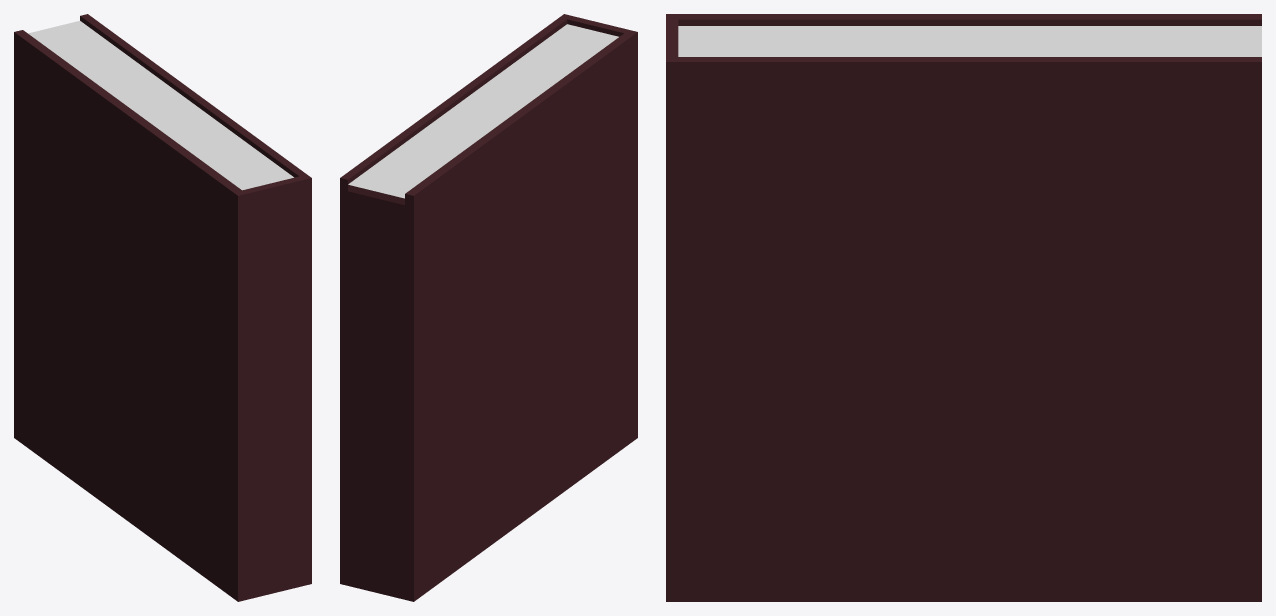
The model's file is book.fbx.
The picture shows the model from 3 angles, left to right: view 1: azimuth 30°, elevation 25°; view 2: azimuth 150°, elevation 25°; view 3: azimuth 270°, elevation 25°; orthographic projection. The views are drawn at different scales.
Visible parts, largest first — view 1: Cube; view 2: Cube; view 3: Cube.
Boxes of the visible parts, x1=… form: Cube: x1=14, y1=14, x2=311, y2=601; Cube: x1=340, y1=14, x2=637, y2=601; Cube: x1=666, y1=14, x2=1261, y2=601.
Bounding box in the file's own units: 37.99 × 200 × 200.
